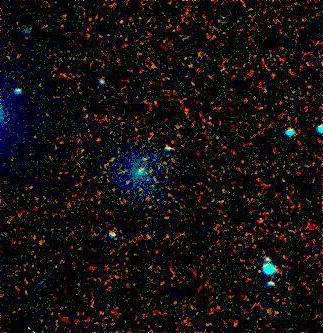star: (28, 269, 58, 299)
